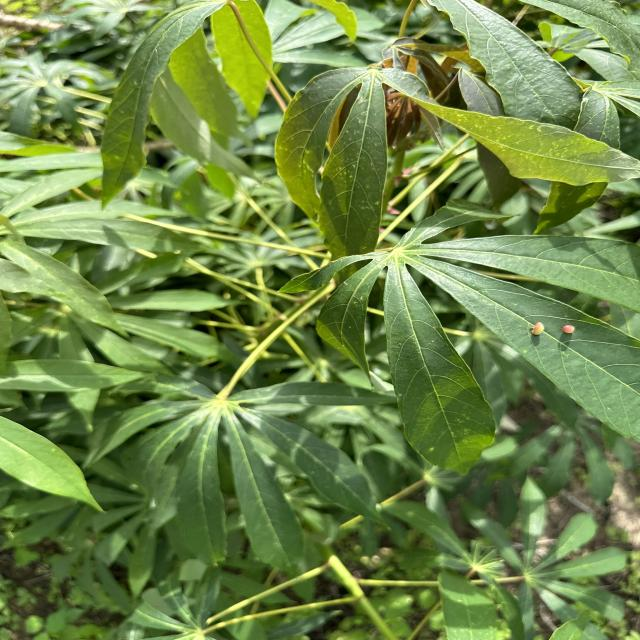Mosca: (418, 436, 449, 466), (527, 318, 558, 342), (557, 318, 584, 340)
